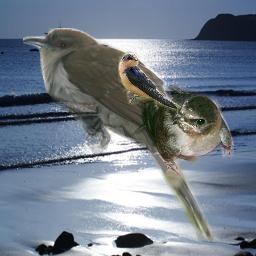Cuckoo: (23, 28, 214, 245)
Swallow: (129, 85, 234, 179), (118, 49, 184, 112)
